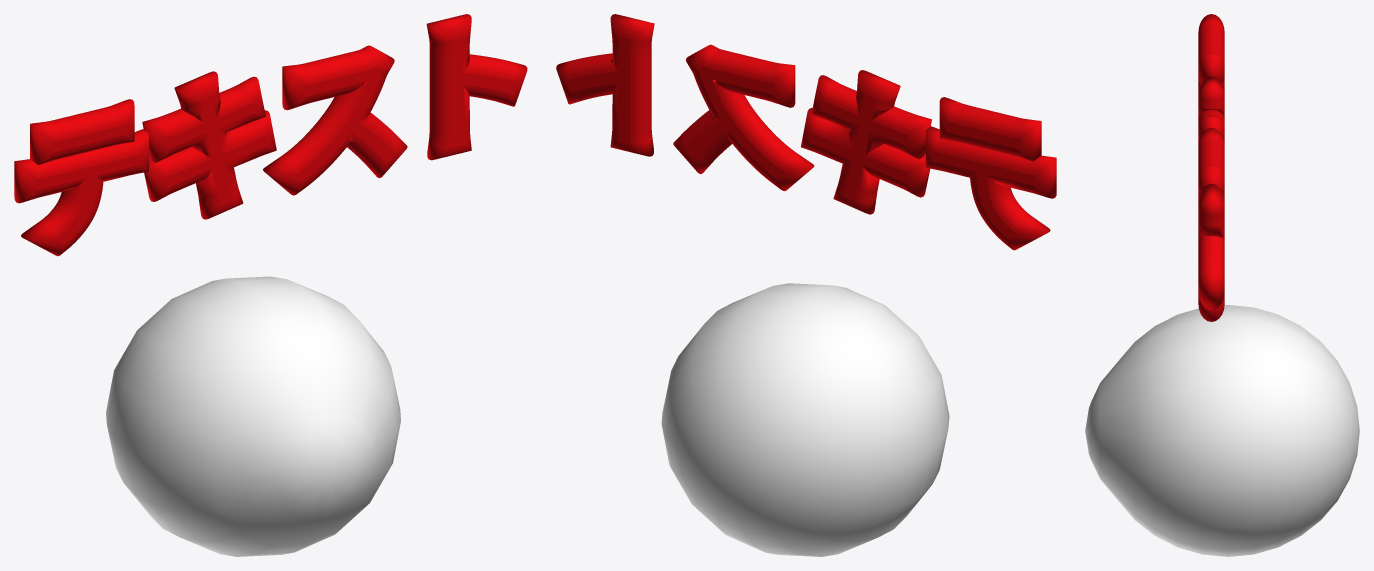
3 views of the same model, side by side, from view 1: azimuth 30°, elevation 25°; view 2: azimuth 150°, elevation 25°; view 3: azimuth 270°, elevation 25° (orthographic). The views are drawn at different scales.
Visible parts, largest first — view 1: 球, テキスト; view 2: 球, テキスト; view 3: 球, テキスト.
Boxes of the visible parts, <box> form: 球: <box>106,276,400,556</box>; テキスト: <box>14,14,527,256</box>; 球: <box>661,283,949,556</box>; テキスト: <box>556,14,1056,250</box>; 球: <box>1085,305,1359,556</box>; テキスト: <box>1198,14,1224,321</box>.
Bounding box in the file's own units: 3.98 × 3.65 × 2.08.
